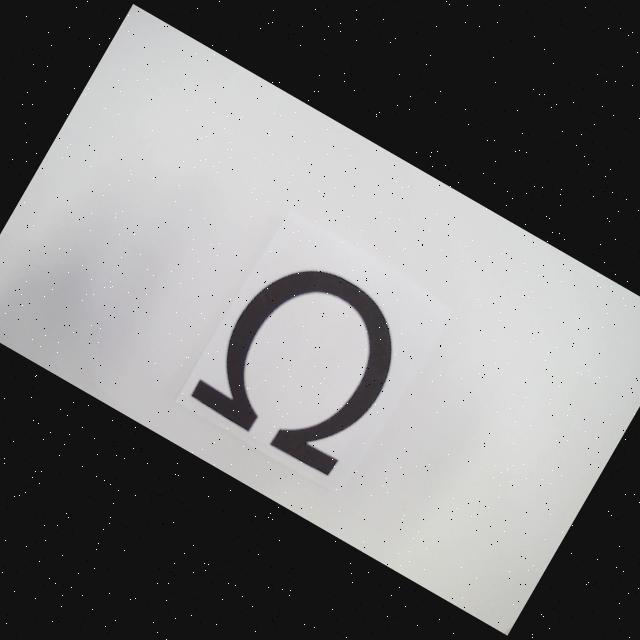OMEGA: (189, 241, 420, 480)
